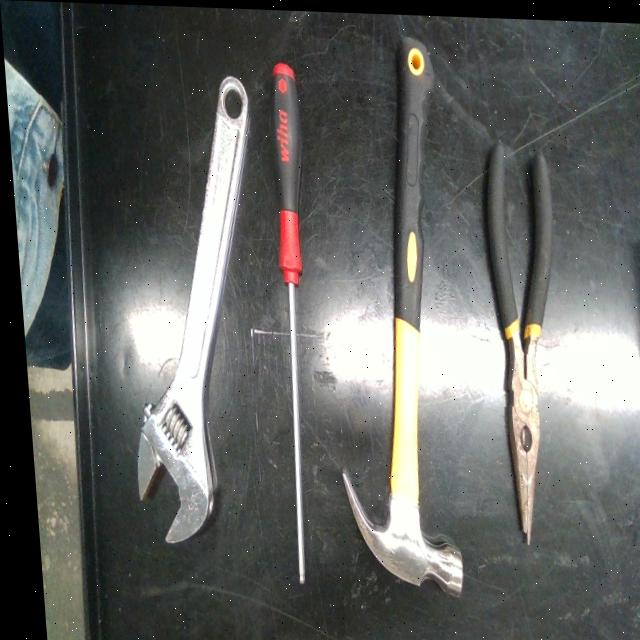Screwdriver: (272, 61, 300, 580)
